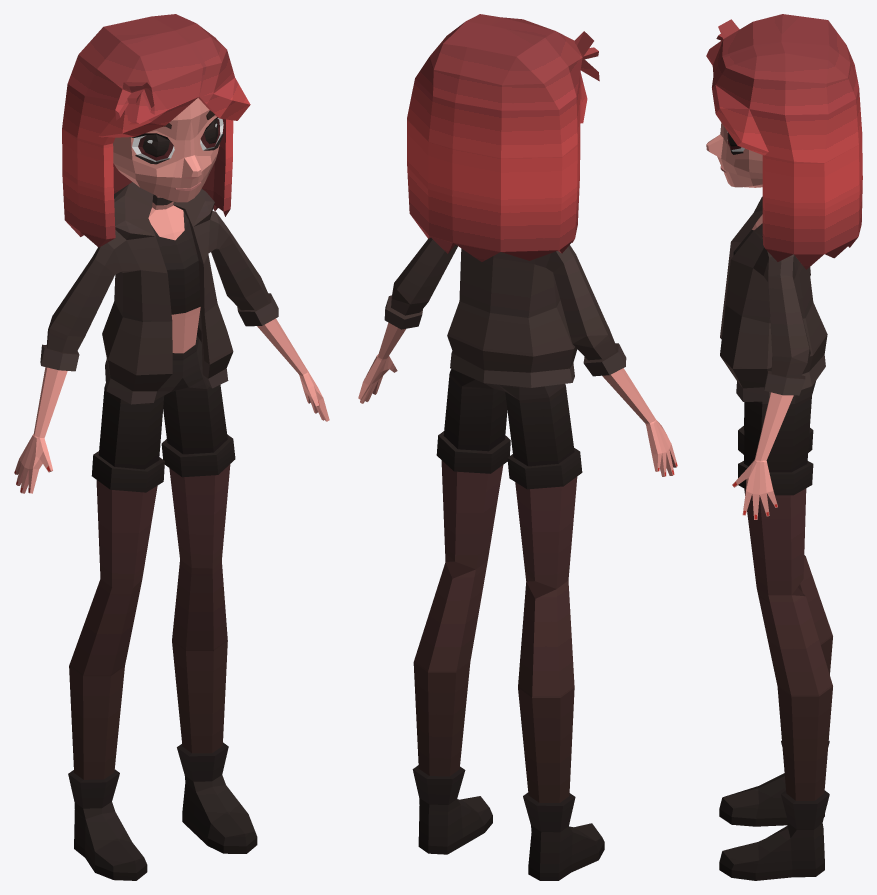
Rendered from human_03.obj.
The picture shows the model from 3 angles, left to right: view 1: azimuth 30°, elevation 25°; view 2: azimuth 150°, elevation 25°; view 3: azimuth 270°, elevation 25°; orthographic projection.
Visible parts, largest first — view 1: body, hair, eyes; view 2: body, hair; view 3: body, hair.
Boxes of the visible parts, x1=… form: body: x1=14, y1=98, x2=329, y2=880; hair: x1=62, y1=14, x2=250, y2=247; eyes: x1=131, y1=117, x2=223, y2=164; body: x1=358, y1=237, x2=677, y2=880; hair: x1=407, y1=14, x2=599, y2=261; body: x1=706, y1=123, x2=832, y2=880; hair: x1=706, y1=14, x2=862, y2=269.
Bounding box in the file's own units: 1 × 2.56 × 0.4482.
1 material, 1 textured.
